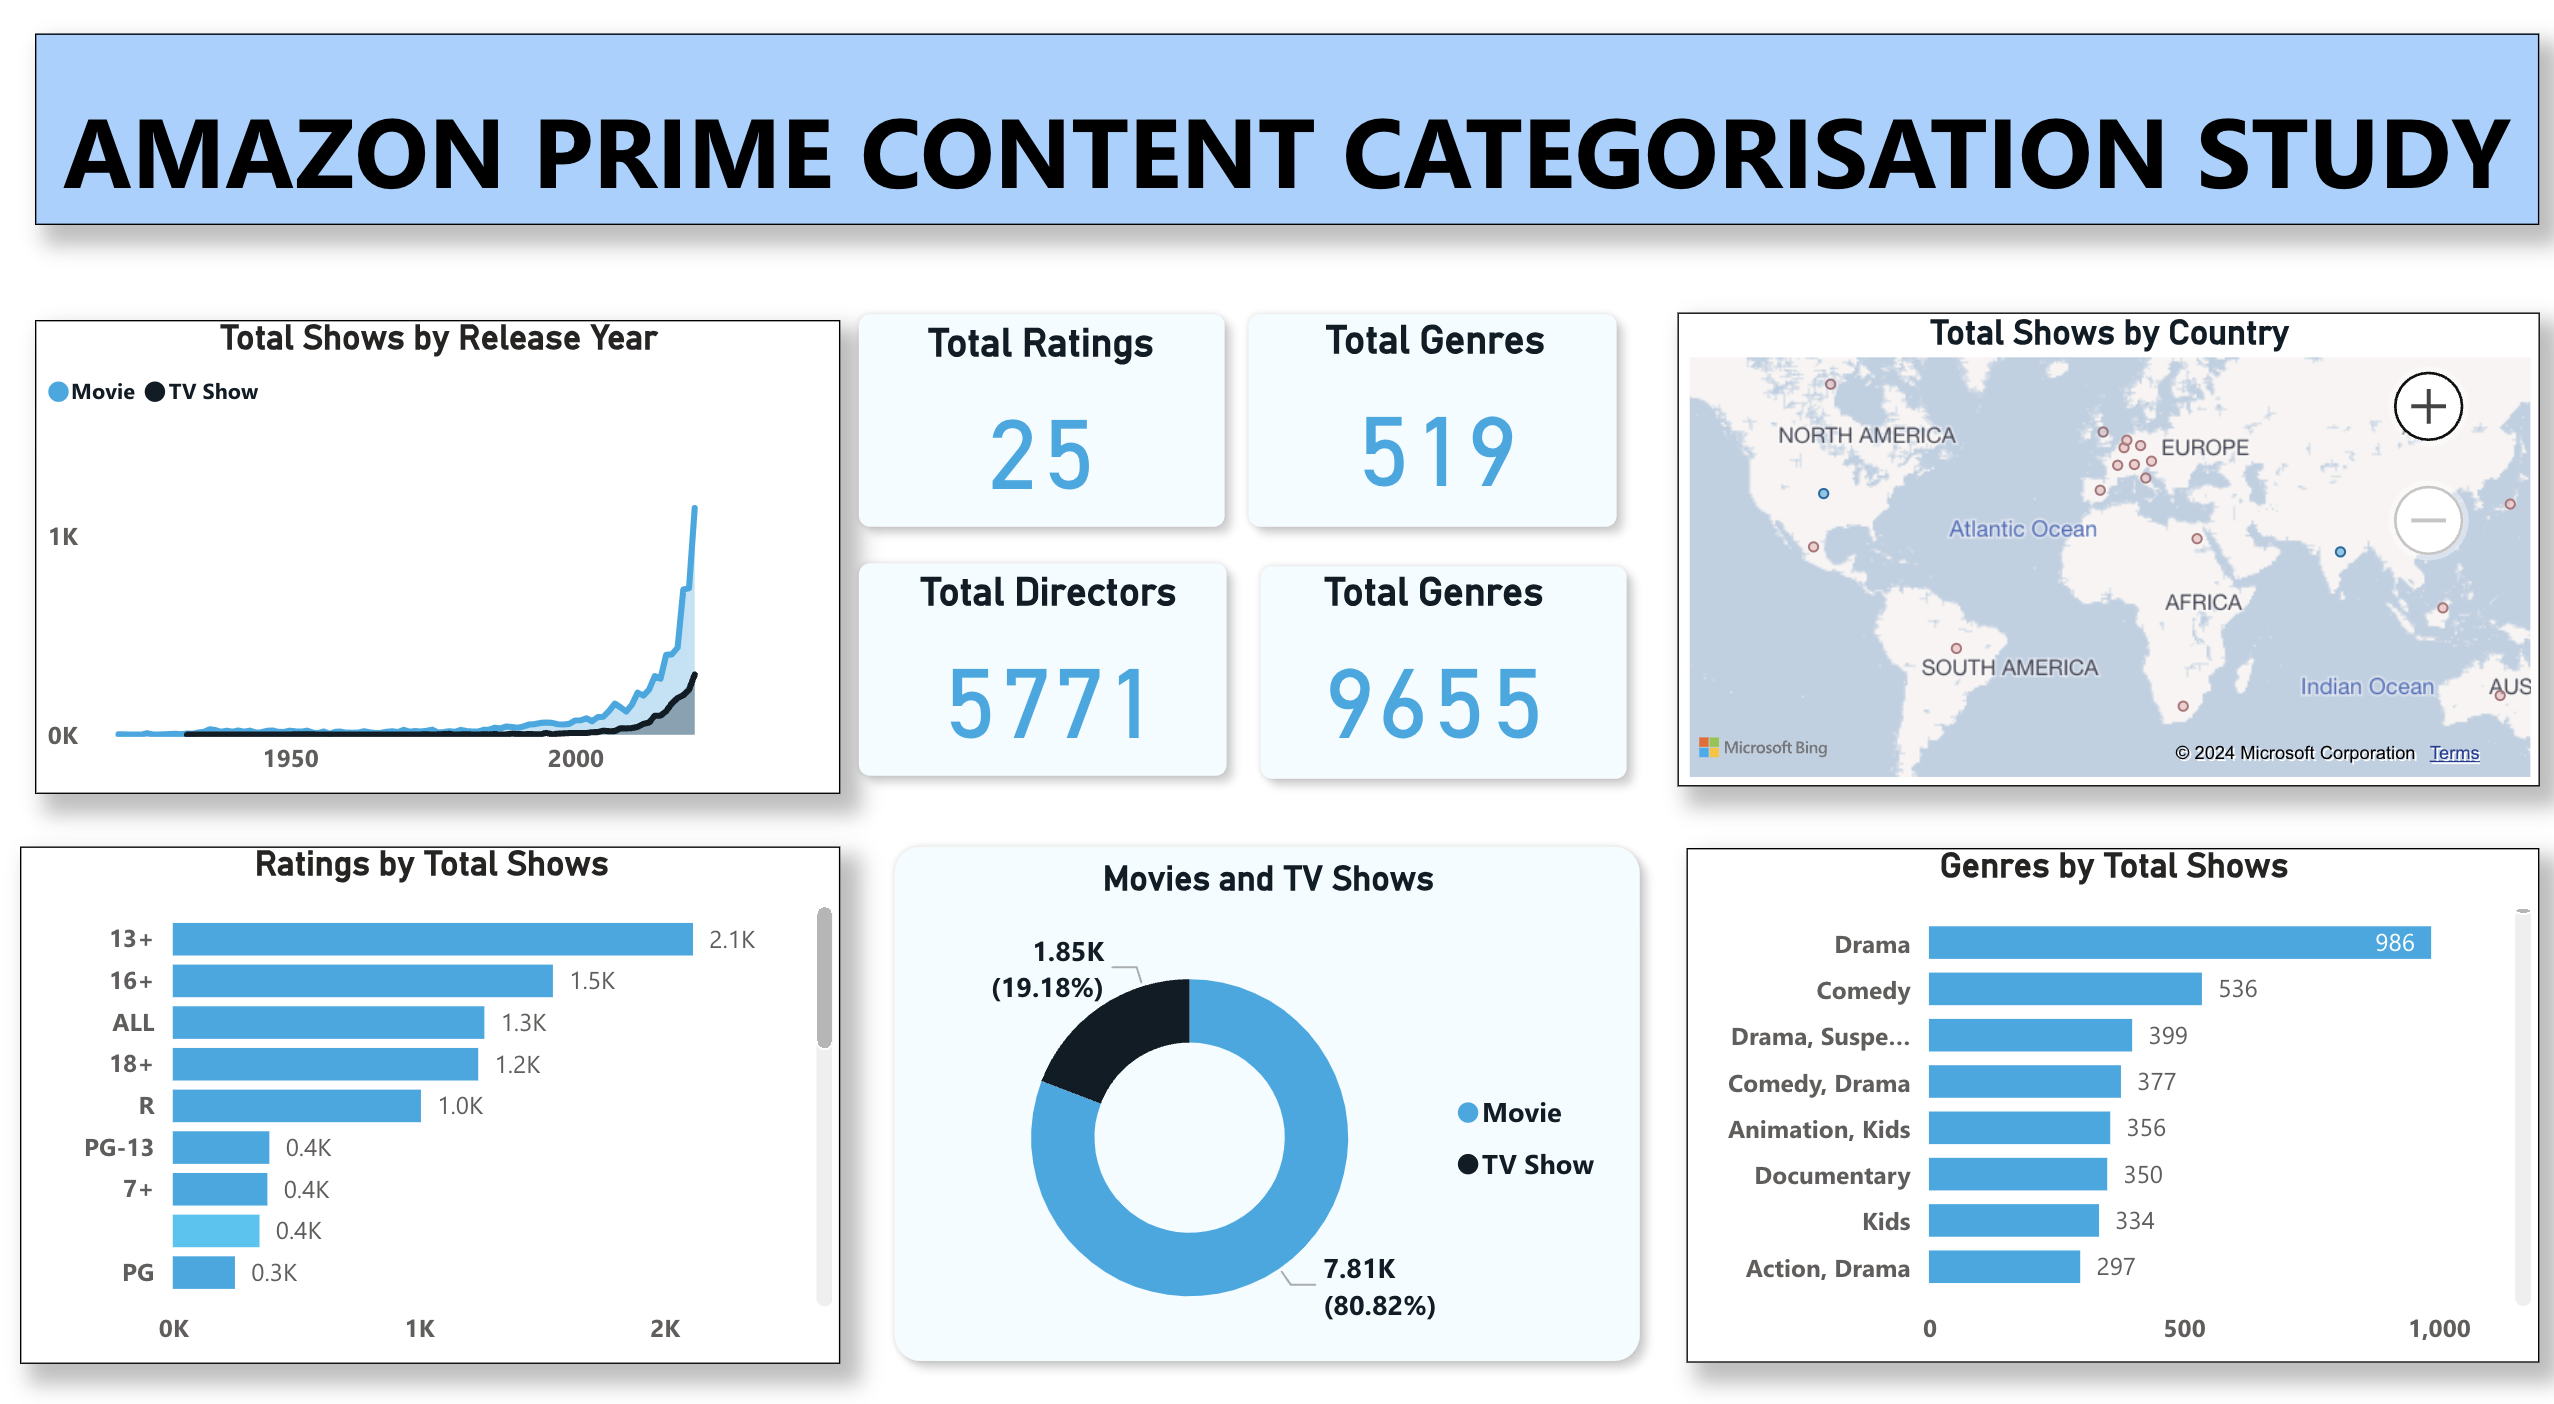

Layout of this report page (visuals, bound fields, positions):
{"tool":"powerbi","page":{"name":"Amazon Prime Video Data Analysis","canvas":[1280,720],"ordinal":0},"visuals":[{"type":"shape","box":[446.9,420.5,383.6,270.4],"z":0},{"type":"map","title":"Total Shows by Country","fields":{"Category":["amazon_prime_titles.country"]},"box":[840.2,166.8,423.2,232.6],"z":1000},{"type":"donutChart","title":"Movies and TV Shows","fields":{"Category":["amazon_prime_titles.type"],"Y":["CountNonNull(amazon_prime_titles.show_id)"]},"box":[464.4,437.2,349.4,253.7],"z":2000},{"type":"areaChart","title":"Total Shows by Release Year","fields":{"Category":["amazon_prime_titles.release_year"],"Y":["Count(amazon_prime_titles.show_id)"],"Series":["amazon_prime_titles.type"]},"box":[34.2,171.2,395.1,232.6],"z":3000},{"type":"barChart","title":"Ratings by Total Shows","fields":{"Category":["amazon_prime_titles.rating"],"Y":["Count(amazon_prime_titles.show_id)"]},"box":[26.3,429.3,403,253.7],"z":4000},{"type":"barChart","title":"Genres by Total Shows","fields":{"Y":["Count(amazon_prime_titles.show_id)"],"Category":["amazon_prime_titles.listed_in"]},"box":[844.6,430.2,418.8,252.8],"z":5000},{"type":"shape","box":[429.3,159.4,197.5,122.2],"z":6000},{"type":"shape","box":[620.9,159.4,198.5,122.2],"z":7000},{"type":"shape","box":[429.3,281.6,198.5,122.2],"z":8000},{"type":"card","title":"Total Ratings","fields":{"Values":["Count(amazon_prime_titles.rating)"]},"box":[438.1,172.1,178.9,98.8],"z":9000},{"type":"card","title":"Total Genres","fields":{"Values":["Count(amazon_prime_titles.listed_in)"]},"box":[631.7,171.1,178.9,98.8],"z":10000},{"type":"card","title":"Total Directors","fields":{"Values":["Count(amazon_prime_titles.director)"]},"box":[442,294.3,178.9,98.8],"z":11000},{"type":"shape","box":[626.8,282.6,197.5,122.2],"z":12000},{"type":"card","title":"Total Genres","fields":{"Values":["Count(amazon_prime_titles.title)"]},"box":[630.7,294.3,178.9,98.8],"z":13000},{"type":"textbox","box":[34.2,29.8,1229.1,93.9],"z":14000}]}

Visuals, with their boxes in screenshot pixels (x1, y1, x2, y2), scaled from the page's 1280x720 canvas onto the 2554x1404 screenshot:
shape: 892, 820, 1657, 1347
"Total Shows by Country" map: 1676, 325, 2521, 779
"Movies and TV Shows" donutChart: 927, 853, 1624, 1347
"Total Shows by Release Year" areaChart: 68, 334, 857, 787
"Ratings by Total Shows" barChart: 52, 837, 857, 1332
"Genres by Total Shows" barChart: 1685, 839, 2521, 1332
shape: 857, 311, 1251, 549
shape: 1239, 311, 1635, 549
shape: 857, 549, 1253, 787
"Total Ratings" card: 874, 336, 1231, 528
"Total Genres" card: 1260, 334, 1617, 526
"Total Directors" card: 882, 574, 1239, 767
shape: 1251, 551, 1645, 789
"Total Genres" card: 1258, 574, 1615, 767
textbox: 68, 58, 2521, 241
